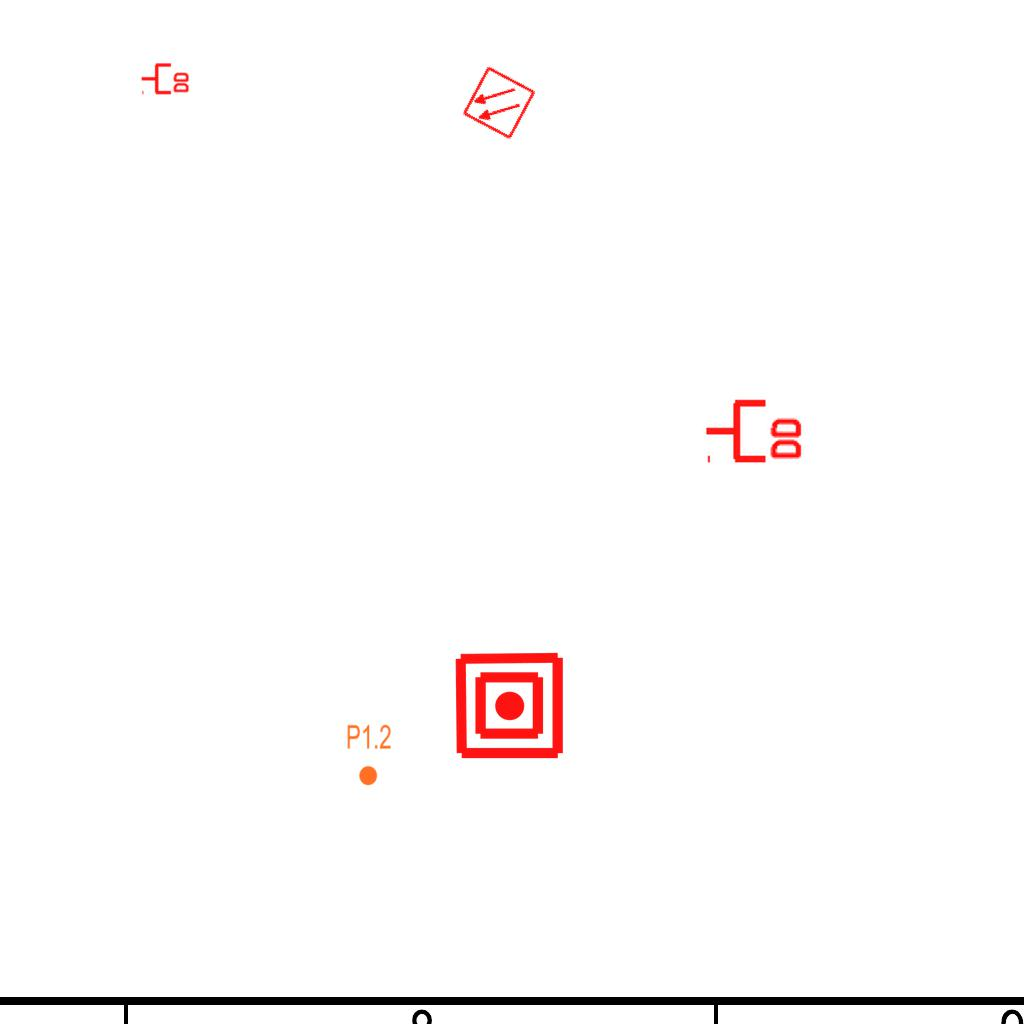Datenanschluss_zweifach: (703, 395, 806, 464), (140, 61, 191, 95)
Downlight_LED_Einbauleuchten_Flur: (346, 723, 392, 787)
NAM-Nichtautomatischer_Melder: (453, 649, 566, 762)
RMO_Rauchmelder_optischer: (461, 65, 537, 141)
